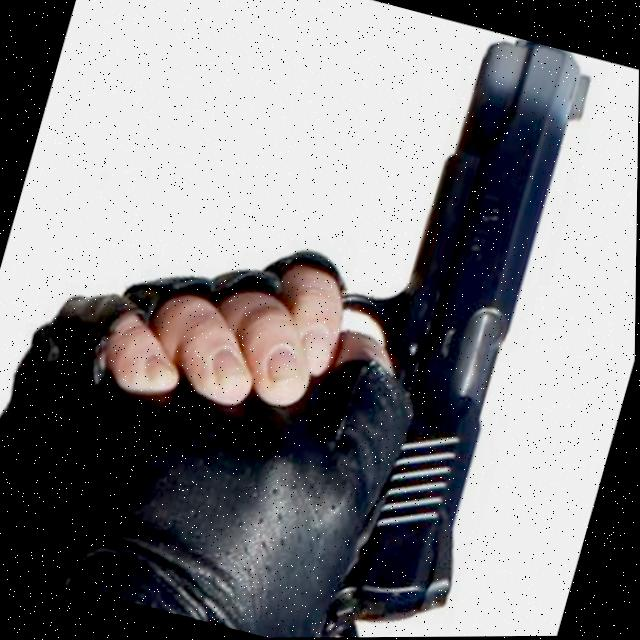pistol: (244, 11, 598, 639)
